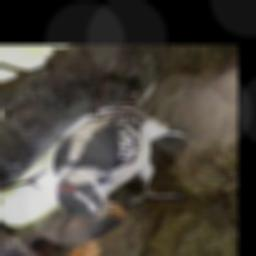Woodpecker: (52, 84, 187, 225)
